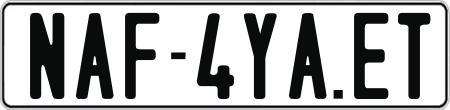4: (195, 11, 233, 103)
A: (76, 11, 119, 100), (286, 10, 323, 99)
E: (351, 10, 385, 102)
F: (122, 11, 159, 101)
N: (29, 11, 66, 101)
T: (395, 10, 427, 101)
Y: (243, 13, 280, 99)
